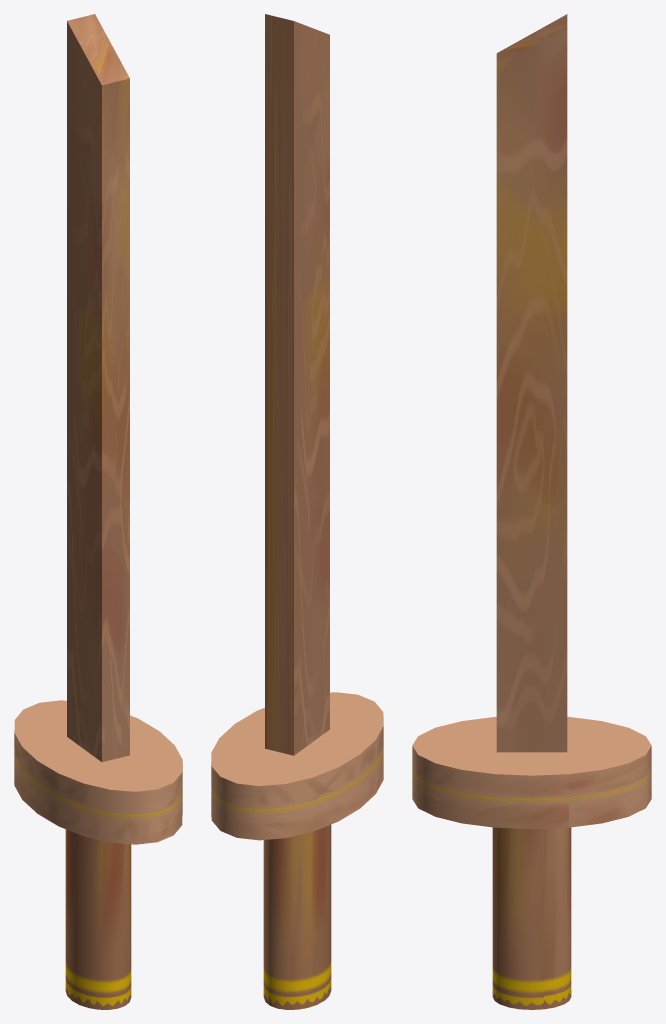
3 views of the same model, side by side, from view 1: azimuth 30°, elevation 25°; view 2: azimuth 150°, elevation 25°; view 3: azimuth 270°, elevation 25° (orthographic). The views are drawn at different scales.
Parts seen in each view (by area): view 1: pCube1, pCylinder1, pCylinder2; view 2: pCube1, pCylinder1, pCylinder2; view 3: pCube1, pCylinder1, pCylinder2.
Part boxes in pixels (left/top/right/bottom): pCube1: left=67, top=14, right=129, bottom=762; pCylinder1: left=14, top=700, right=182, bottom=844; pCylinder2: left=65, top=829, right=131, bottom=1009; pCube1: left=265, top=14, right=329, bottom=755; pCylinder1: left=211, top=692, right=383, bottom=840; pCylinder2: left=263, top=824, right=331, bottom=1009; pCube1: left=496, top=14, right=567, bottom=752; pCylinder1: left=412, top=717, right=651, bottom=828; pCylinder2: left=492, top=827, right=571, bottom=1009.
Bounding box in the file's own units: 2.02 × 15.23 × 3.39.
3 materials, 3 textured.
